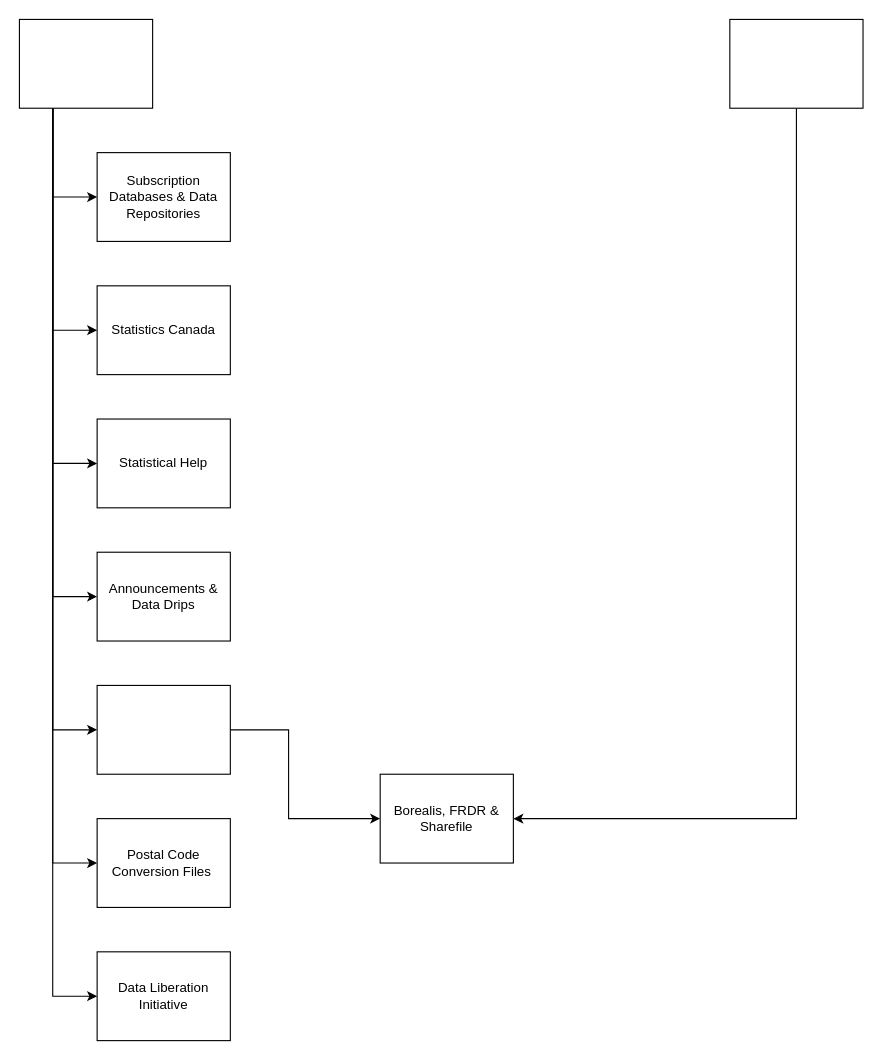
Image size: 882x1060. Some labels were removed from this diagram. Here are the shapes that lost their labels. From the top down, the centre of each, then its label:
At (85,63): "FINDING DATA".
At (796,63): "RESEARCH DATA MANAGEMENT".
At (163,729): "Data Storage & Repositories".
